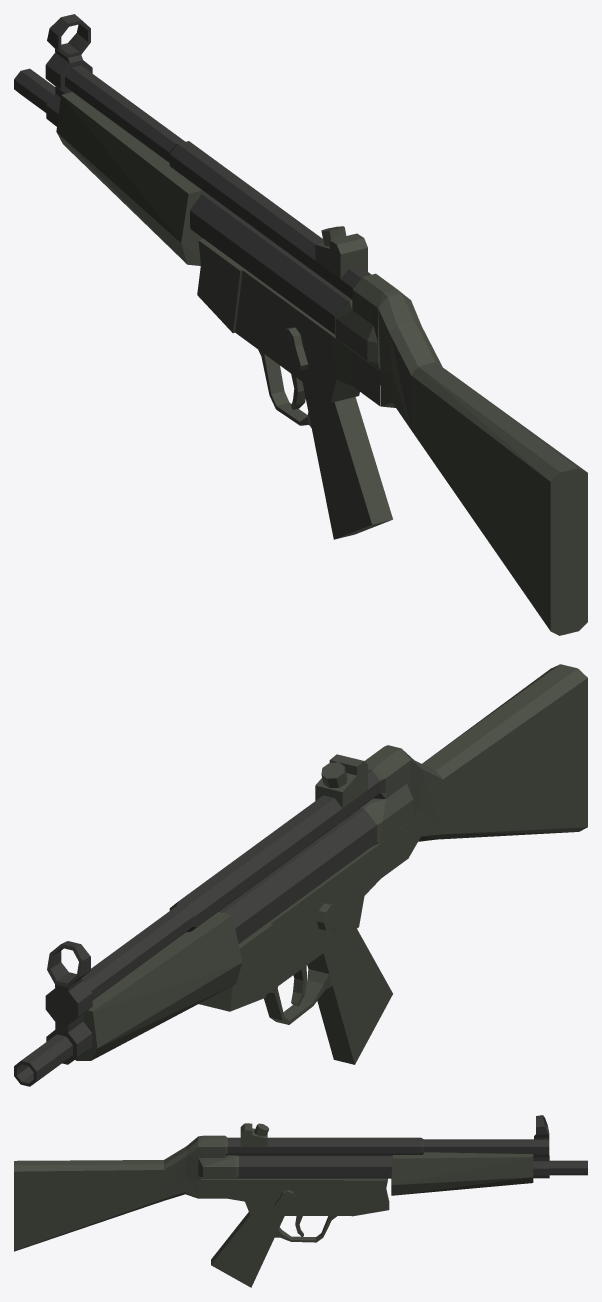
3 views of the same model, one above another, from view 1: azimuth 30°, elevation 25°; view 2: azimuth 150°, elevation 25°; view 3: azimuth 270°, elevation 25° (orthographic). The views are drawn at different scales.
Parts seen in each view (by area): view 1: mp5; view 2: mp5; view 3: mp5.
Part boxes in pixels (x1,y1,x2,y2): mp5: (14,14,587,635); mp5: (14,664,587,1086); mp5: (14,1115,587,1287).
Bounding box in the file's own units: 0.0454 × 0.226 × 0.698.
Materials: 1 (1 with a texture image).
